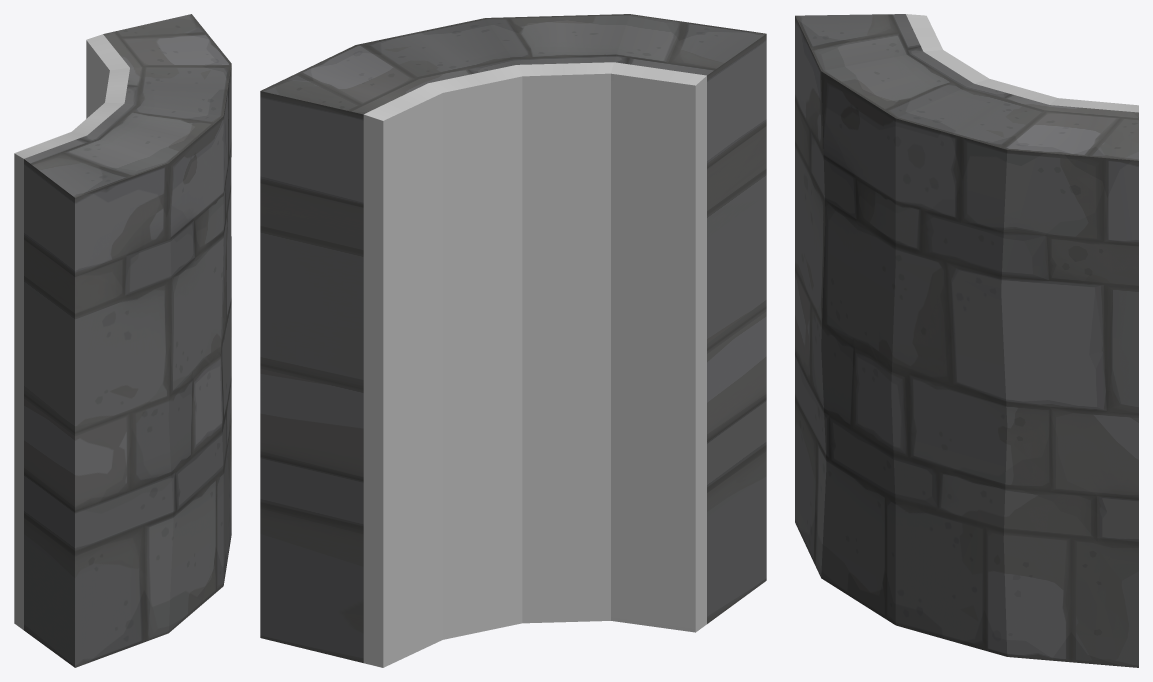
Rendered from SM_Bld_Wall_L_Curve_03.fbx.
3 views of the same model, side by side, from view 1: azimuth 30°, elevation 25°; view 2: azimuth 150°, elevation 25°; view 3: azimuth 270°, elevation 25° (orthographic). The views are drawn at different scales.
Visible parts, largest first — view 1: SM_Bld_Wall_L_Curve_03; view 2: SM_Bld_Wall_L_Curve_03; view 3: SM_Bld_Wall_L_Curve_03.
Part boxes in pixels (x1,y1,x2,y2): SM_Bld_Wall_L_Curve_03: (14, 14, 231, 667); SM_Bld_Wall_L_Curve_03: (260, 14, 766, 667); SM_Bld_Wall_L_Curve_03: (795, 14, 1138, 667).
Size of the model in its own units: 369 by 602 by 369.
